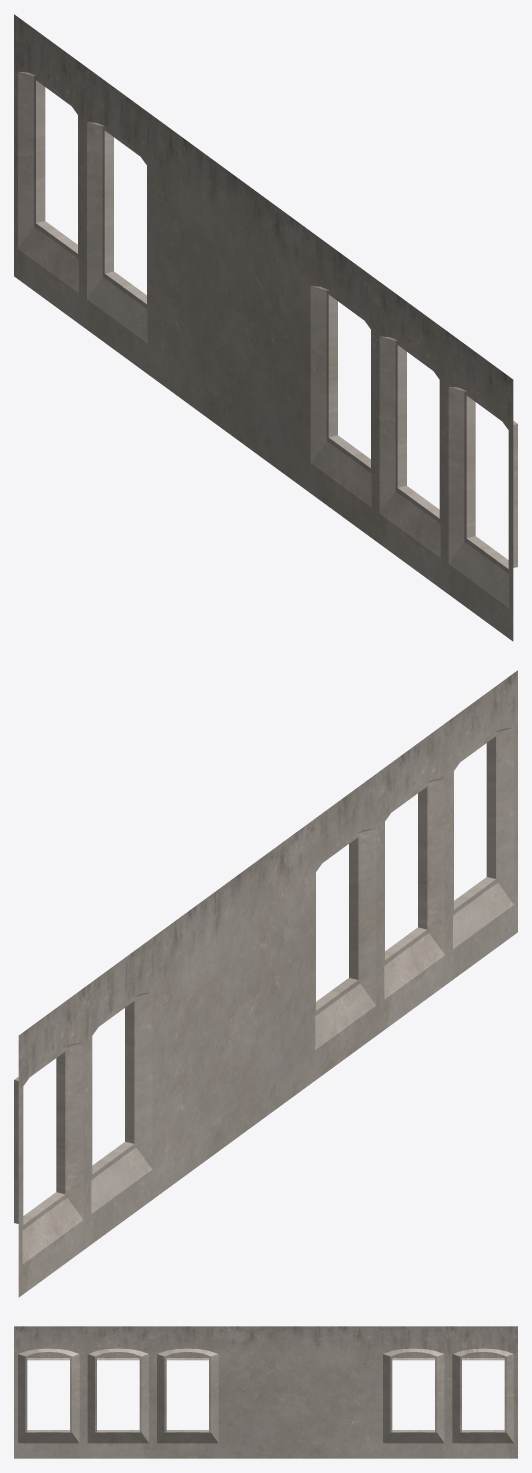
The model's file is ScianyZewn1.fbx.
3 views of the same model, one above another, from view 1: azimuth 30°, elevation 25°; view 2: azimuth 150°, elevation 25°; view 3: azimuth 270°, elevation 25° (orthographic). The views are drawn at different scales.
Parts seen in each view (by area): view 1: OknoZewnatrzLP5, OknoZewnatrzLP3, OknoZewnatrzLP4, pPlane1, OknoZewnatrzLP1, OknoZewnatrzLP2, pPlane3, pPlane2; view 2: OknoZewnatrzLP1, OknoZewnatrzLP2, OknoZewnatrzLP4, pPlane3, OknoZewnatrzLP5, OknoZewnatrzLP3, pPlane1, pPlane2; view 3: pPlane1, pPlane2, pPlane3, OknoZewnatrzLP1, OknoZewnatrzLP2, OknoZewnatrzLP3, OknoZewnatrzLP4, OknoZewnatrzLP5.
Boxes of the visible parts, x1,y1,x2,y2 form: OknoZewnatrzLP5: (444,329,517,641); OknoZewnatrzLP3: (375,279,444,591); OknoZewnatrzLP4: (306,228,375,540); pPlane1: (151,115,203,414); OknoZewnatrzLP1: (14,14,82,326); OknoZewnatrzLP2: (83,65,151,376); pPlane3: (255,191,306,490); pPlane2: (203,153,254,452); OknoZewnatrzLP1: (14,985,87,1297); OknoZewnatrzLP2: (87,935,156,1247); OknoZewnatrzLP4: (311,771,380,1083); pPlane3: (259,821,311,1120); OknoZewnatrzLP5: (449,670,517,982); OknoZewnatrzLP3: (380,721,448,1032); pPlane1: (156,897,207,1196); pPlane2: (208,859,259,1158); pPlane1: (326,1326,378,1458); pPlane2: (274,1326,326,1458); pPlane3: (222,1326,274,1458); OknoZewnatrzLP1: (448,1326,517,1458); OknoZewnatrzLP2: (379,1326,448,1458); OknoZewnatrzLP3: (83,1326,152,1458); OknoZewnatrzLP4: (153,1326,222,1458); OknoZewnatrzLP5: (14,1326,83,1458).
Bounding box in the file's own units: 0.3 × 4.2 × 14.5.
